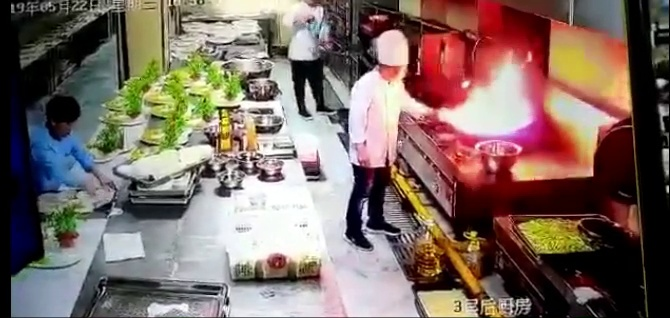fire: (455, 60, 536, 136)
